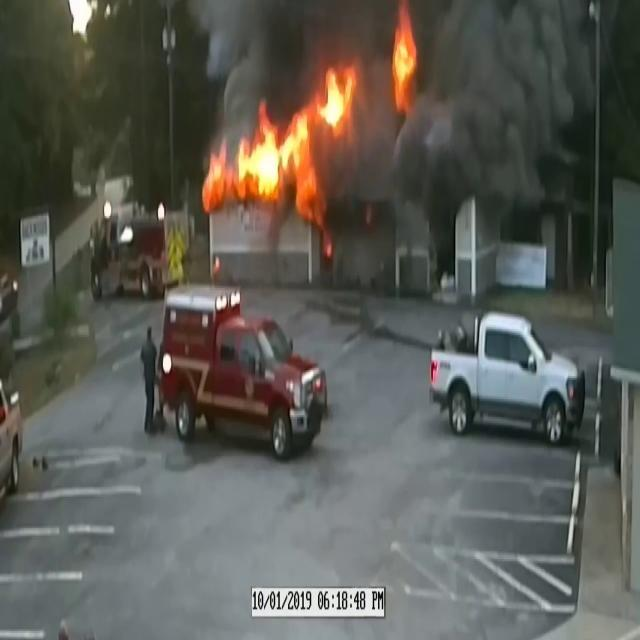Fire: (207, 55, 360, 210), (389, 8, 420, 108)
Smoke: (384, 0, 592, 219)
